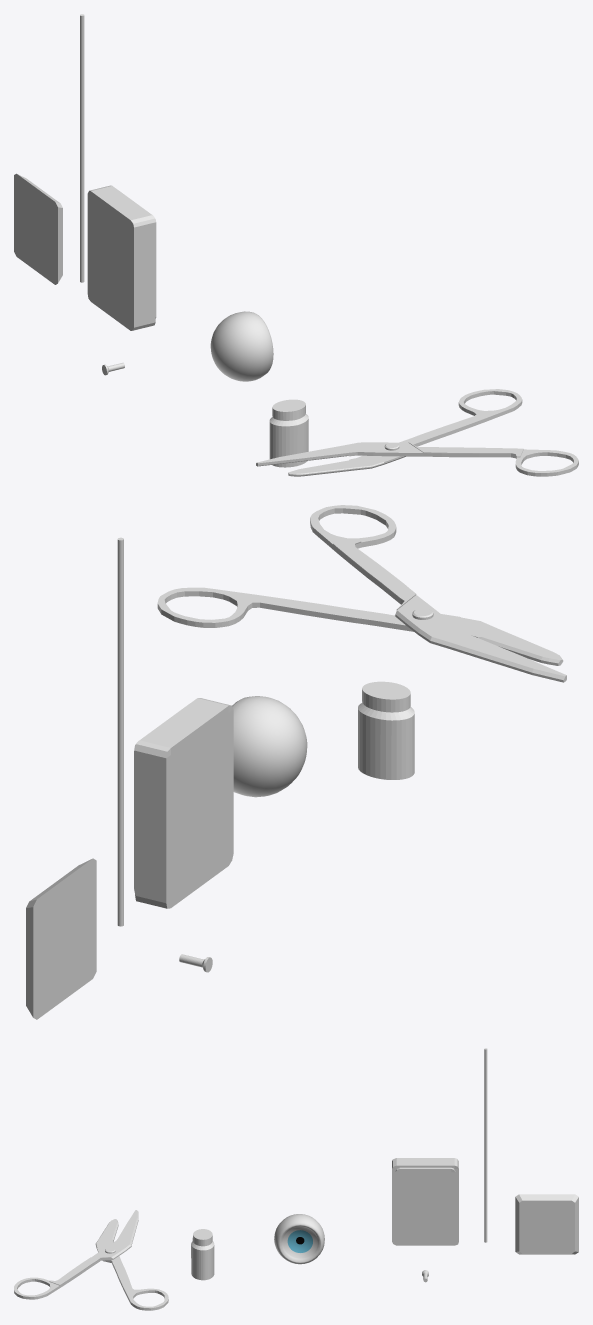
File: Linterna.fbx
The picture shows the model from 3 angles, top to bottom: view 1: azimuth 30°, elevation 25°; view 2: azimuth 150°, elevation 25°; view 3: azimuth 270°, elevation 25°; orthographic projection. The views are drawn at different scales.
Parts seen in each view (by area): view 1: Cube, Circle.002, Cube.002, Sphere, Circle, Cylinder; view 2: Cube, Circle.002, Cube.002, Sphere, Circle, Cylinder; view 3: Cube.001, Cube.002, Circle.002, Sphere, Cube, Circle, Cylinder.
Part boxes in pixels (x1,y1,x2,y2): Cube: (87, 185, 155, 330); Circle.002: (256, 389, 578, 476); Cube.002: (14, 173, 62, 284); Sphere: (210, 311, 273, 381); Circle: (269, 399, 308, 467); Cylinder: (80, 14, 84, 282); Cube: (135, 698, 233, 908); Circle.002: (157, 505, 566, 682); Cube.002: (26, 858, 96, 1019); Sphere: (232, 696, 307, 797); Circle: (358, 681, 414, 779); Cylinder: (117, 537, 123, 926); Cube.001: (395, 1167, 455, 1244); Cube.002: (515, 1194, 578, 1254); Circle.002: (14, 1210, 168, 1310); Sphere: (274, 1214, 324, 1264); Cube: (392, 1158, 458, 1245); Circle: (191, 1229, 214, 1280); Cylinder: (484, 1048, 487, 1242).
Size of the model in its own units: 417 by 478 by 1042.
